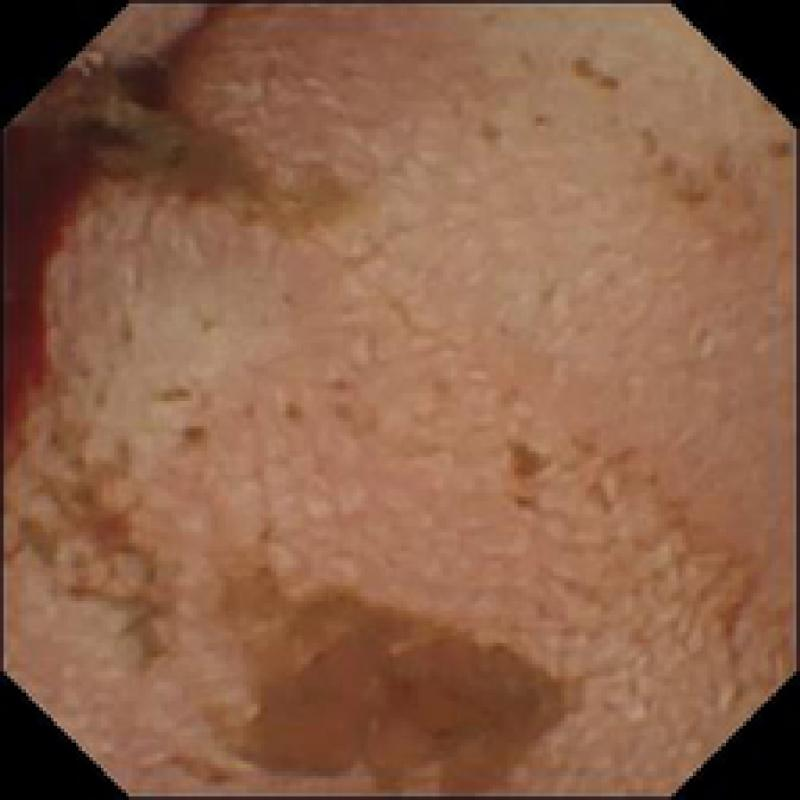bleeding: (0, 118, 107, 428)
